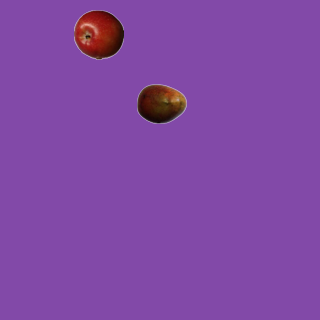Apple Braeburn: (73, 9, 123, 59)
Mango Red: (136, 78, 186, 128)
